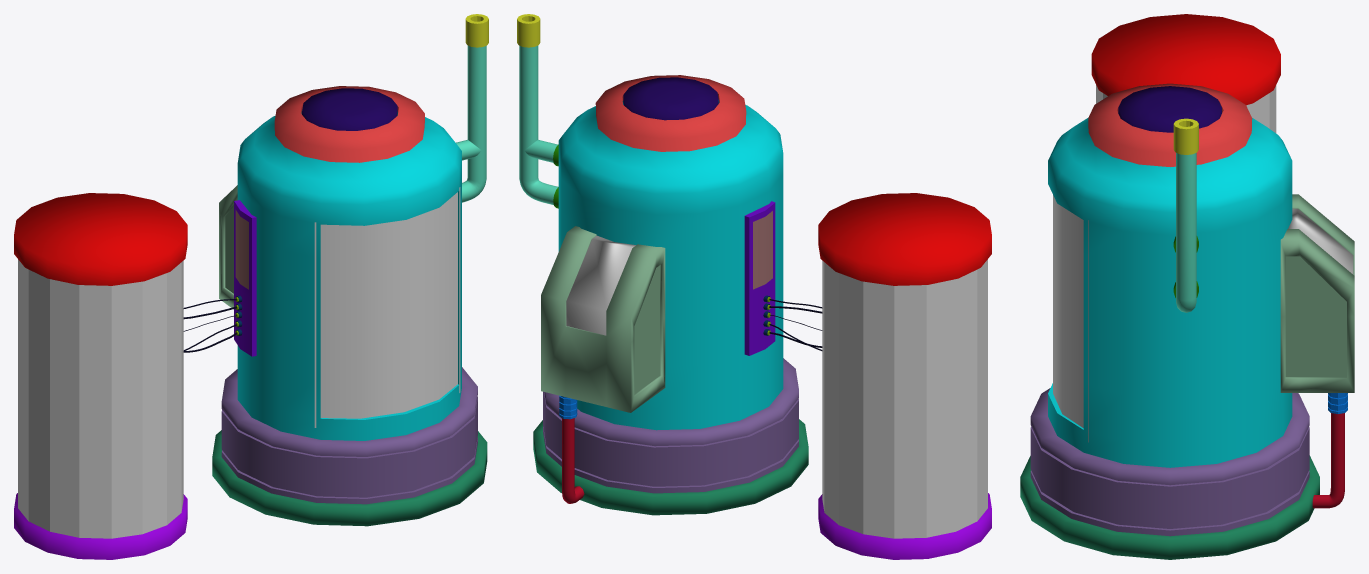
The model's file is DrugMaker.FBX.
The picture shows the model from 3 angles, left to right: view 1: azimuth 30°, elevation 25°; view 2: azimuth 150°, elevation 25°; view 3: azimuth 270°, elevation 25°; orthographic projection. The views are drawn at different scales.
Parts seen in each view (by area): view 1: Object019, Object005, Object007, Cylinder009; view 2: Object019, Object005, Cylinder009, Object001; view 3: Object019, Cylinder009, Object007, Object001, Object005.
Part boxes in pixels (x1,y1,x2,y2): Object019: [212, 14, 488, 526]; Object005: [18, 259, 183, 538]; Object007: [314, 187, 460, 427]; Cylinder009: [14, 193, 237, 559]; Object019: [517, 14, 808, 515]; Object005: [822, 259, 987, 538]; Cylinder009: [769, 193, 991, 559]; Object001: [566, 235, 635, 335]; Object019: [1020, 83, 1354, 559]; Cylinder009: [1091, 14, 1280, 105]; Object007: [1053, 195, 1088, 442]; Object001: [1288, 208, 1353, 274]; Object005: [1096, 85, 1276, 133].
Bounding box in the file's own units: 278 × 237 × 161.
